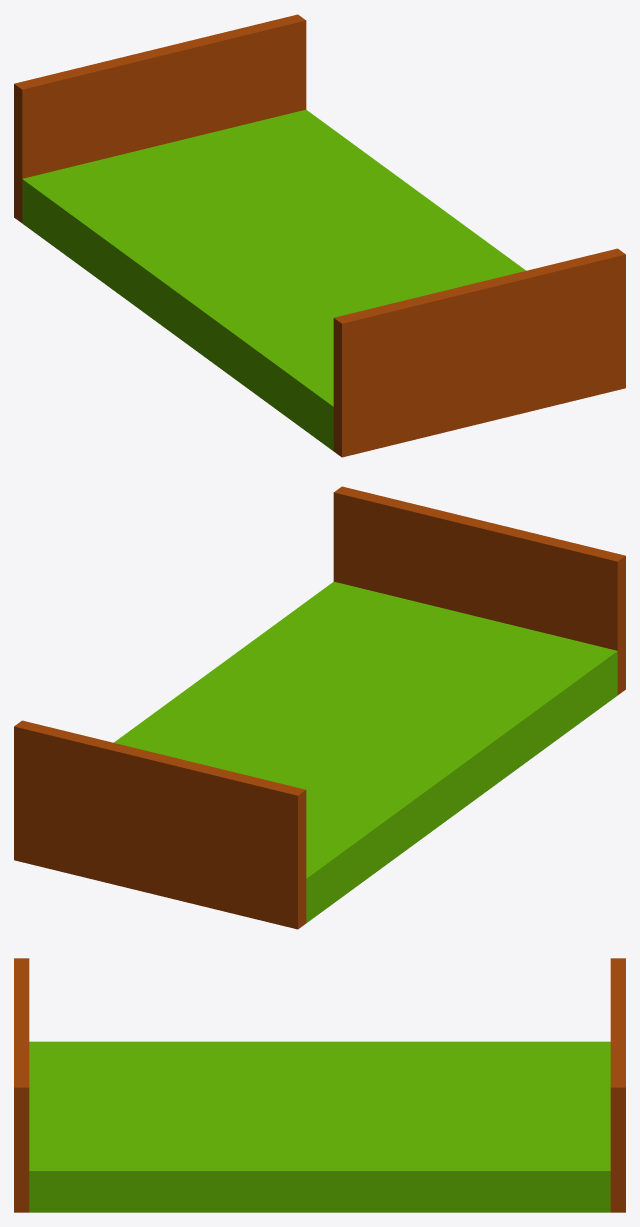
Rendered from straight_wide.fbx.
3 views of the same model, one above another, from view 1: azimuth 30°, elevation 25°; view 2: azimuth 150°, elevation 25°; view 3: azimuth 270°, elevation 25° (orthographic). The views are drawn at different scales.
Visible parts, largest first — view 1: Plane; view 2: Plane; view 3: Plane.
Boxes of the visible parts, box(x1,y1,x2,y2) form: Plane: box(14, 14, 625, 457); Plane: box(14, 486, 625, 929); Plane: box(14, 958, 625, 1212).
Size of the model in its own units: 200 by 90 by 400.
